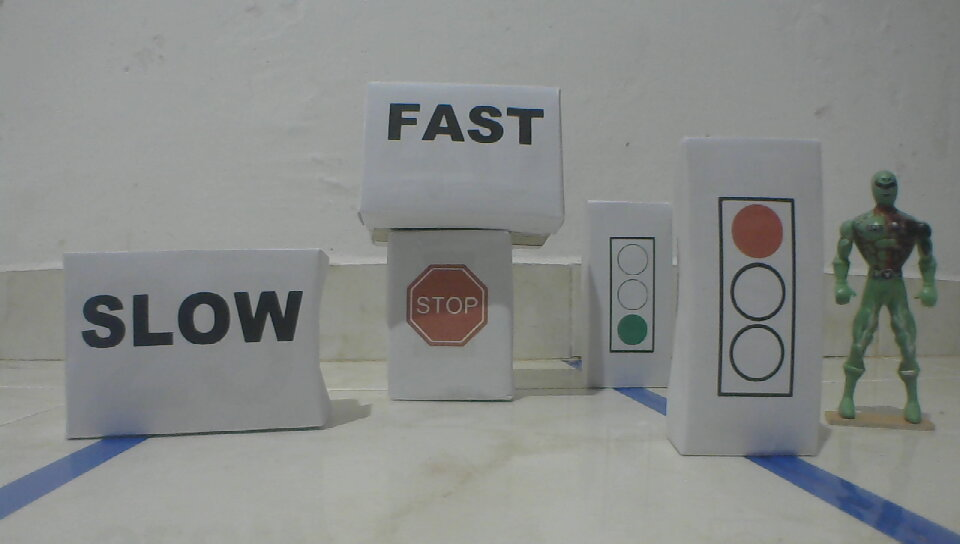Fast: (384, 100, 546, 148)
Green Traffic Light: (607, 234, 658, 356)
Person: (831, 168, 940, 429)
Red Traffic Light: (714, 194, 797, 402)
Slow: (78, 289, 308, 352)
Stop Sign: (403, 262, 493, 350)
